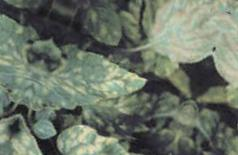Tomato mold leaf: (25, 33, 153, 146), (142, 0, 235, 71), (49, 119, 136, 155)
